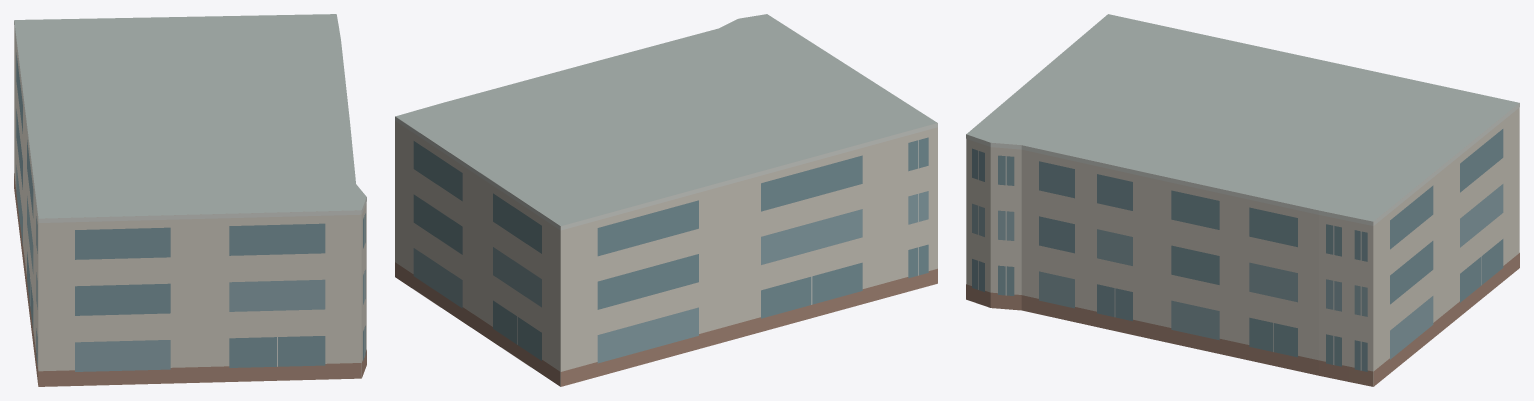
Rendered from survey-upis-32888360.glb.
3 views of the same model, side by side, from view 1: azimuth 30°, elevation 25°; view 2: azimuth 150°, elevation 25°; view 3: azimuth 270°, elevation 25° (orthographic). The views are drawn at different scales.
Visible parts, largest first — view 1: survey-upis-32888360.tmp; view 2: survey-upis-32888360.tmp; view 3: survey-upis-32888360.tmp.
Part boxes in pixels (x1,y1,x2,y2): survey-upis-32888360.tmp: (14, 14, 366, 386); survey-upis-32888360.tmp: (395, 14, 937, 386); survey-upis-32888360.tmp: (966, 14, 1519, 386).
Size of the model in its own units: 24.67 by 9.15 by 27.79.
